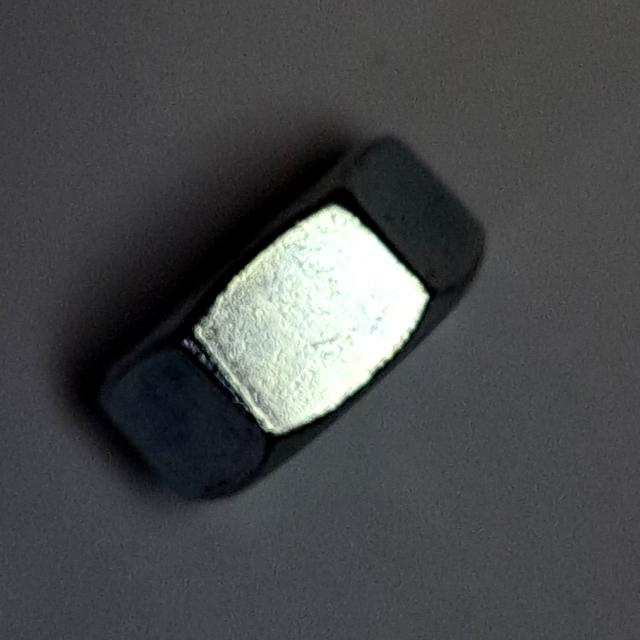Side_Excellent: (79, 119, 499, 517)
